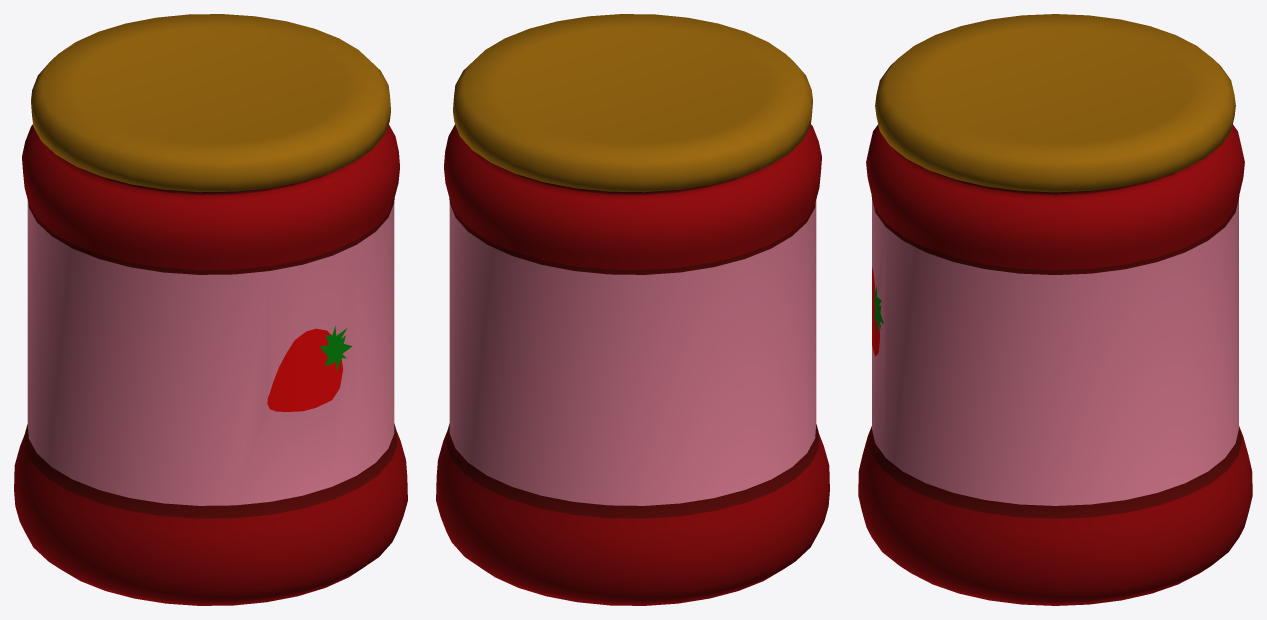
The model's file is JamStrawberry.fbx.
The picture shows the model from 3 angles, left to right: view 1: azimuth 30°, elevation 25°; view 2: azimuth 150°, elevation 25°; view 3: azimuth 270°, elevation 25°; orthographic projection.
Parts seen in each view (by area): view 1: Cylinder; view 2: Cylinder; view 3: Cylinder.
Boxes of the visible parts, x1,y1,x2,y2 form: Cylinder: (14, 14, 407, 605); Cylinder: (436, 14, 829, 605); Cylinder: (858, 14, 1252, 605).
Size of the model in its own units: 358 by 448 by 358.
